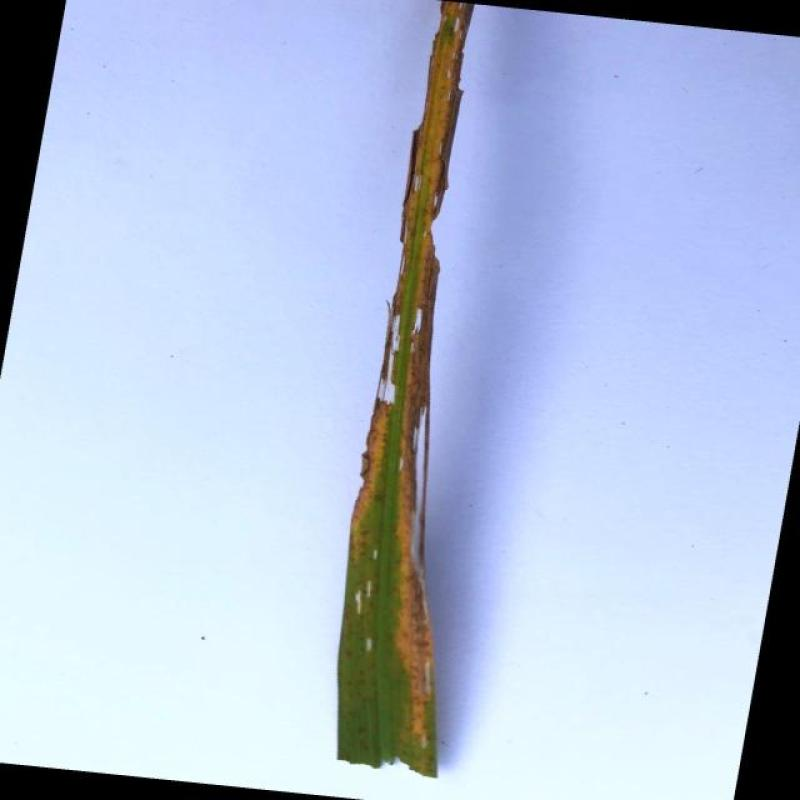Rice Tungro: (392, 0, 464, 745), (343, 397, 395, 562)
